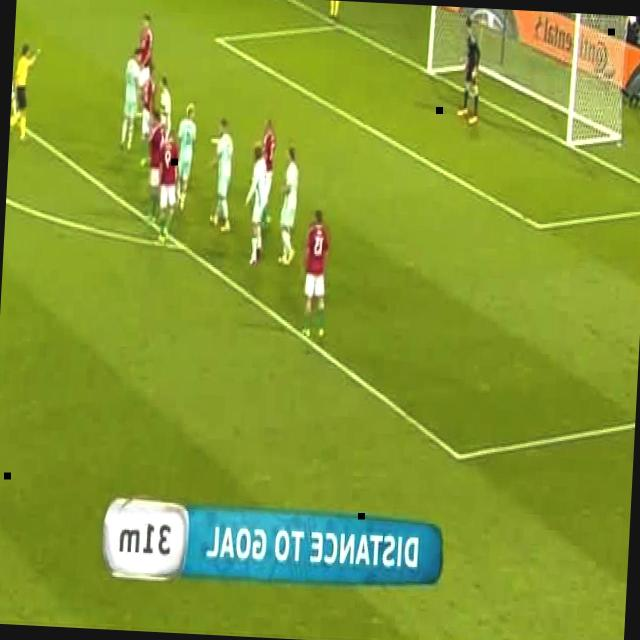player-white: (300, 209, 332, 339), (209, 117, 238, 235), (9, 38, 41, 144), (243, 143, 269, 264), (156, 124, 180, 248), (277, 144, 301, 264), (457, 14, 483, 124), (174, 99, 198, 210), (119, 50, 143, 150), (256, 119, 278, 227), (144, 111, 164, 225), (138, 64, 160, 166), (134, 12, 154, 118), (156, 77, 174, 165), (10, 24, 23, 116), (328, 1, 346, 20)
